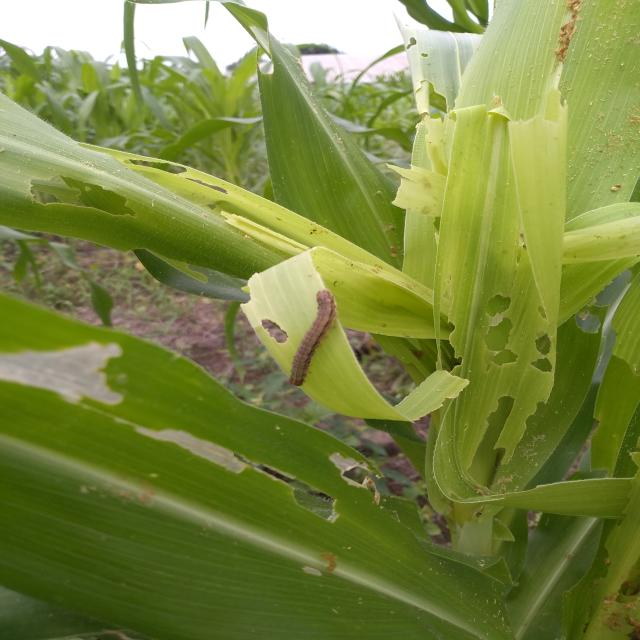yellow-stem-borer-larva: (283, 273, 339, 405)
